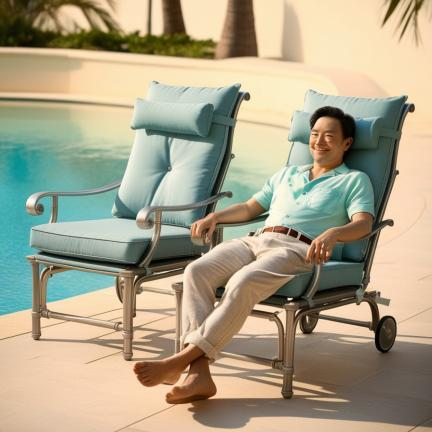empty chair: (27, 81, 249, 359)
guest on chair: (134, 90, 413, 404)
